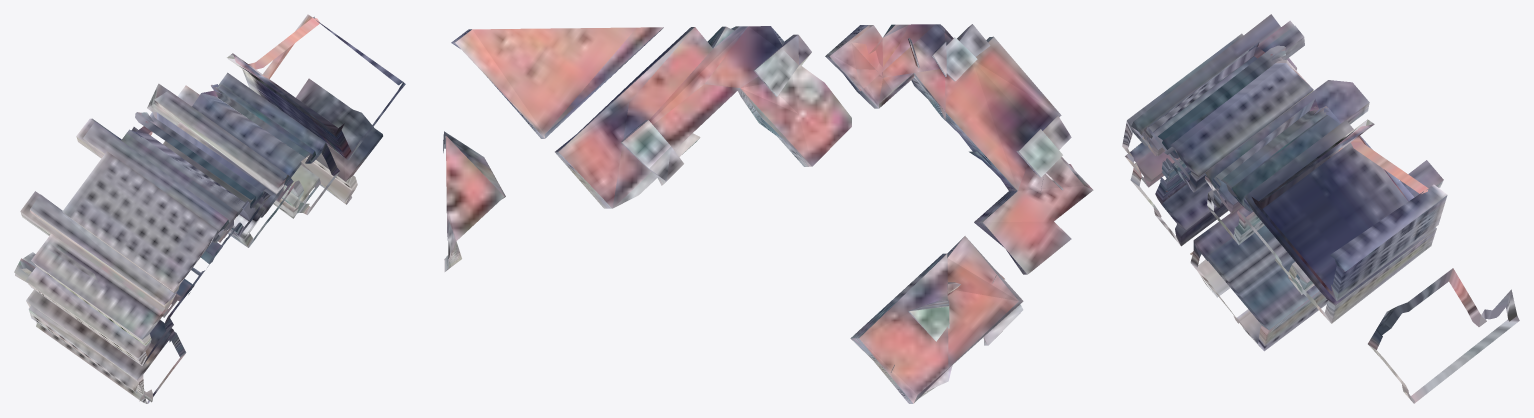
The picture shows the model from 3 angles, left to right: view 1: azimuth 30°, elevation 25°; view 2: azimuth 150°, elevation 25°; view 3: azimuth 270°, elevation 25°; orthographic projection. The views are drawn at different scales.
Bounding box in the file's own units: 92.86 × 61.41 × 71.03.
Materials: 1 (1 with a texture image).
